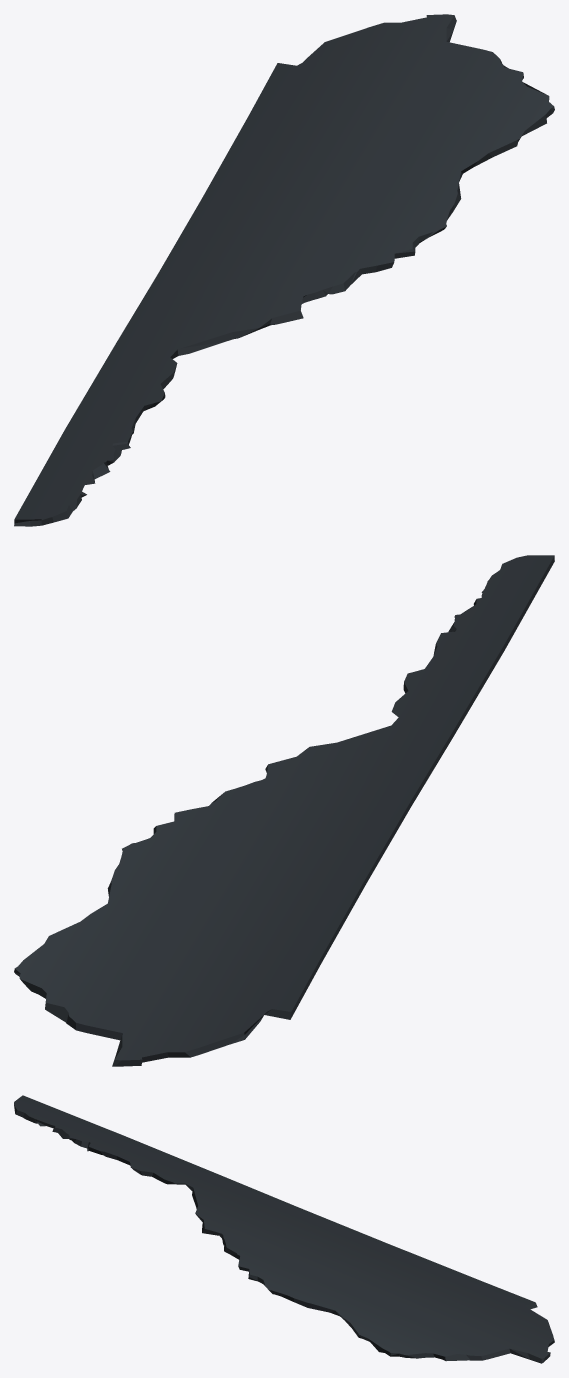
Rendered from Road Model Chunk1.fbx.
3 views of the same model, one above another, from view 1: azimuth 30°, elevation 25°; view 2: azimuth 210°, elevation 25°; view 3: azimuth 270°, elevation 25° (orthographic). The views are drawn at different scales.
Parts seen in each view (by area): view 1: Road Chunk 1; view 2: Road Chunk 1; view 3: Road Chunk 1.
Boxes of the visible parts, x1,y1,x2,y2 form: Road Chunk 1: (14, 14, 554, 526); Road Chunk 1: (14, 555, 554, 1066); Road Chunk 1: (14, 1095, 554, 1363).
Size of the model in its own units: 14037 by 101 by 12132.
